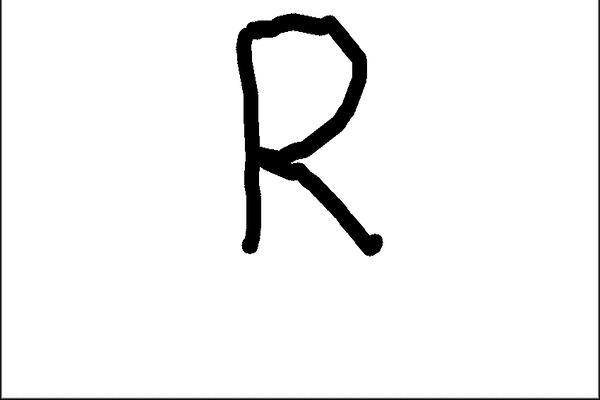R: (216, 6, 391, 272)
